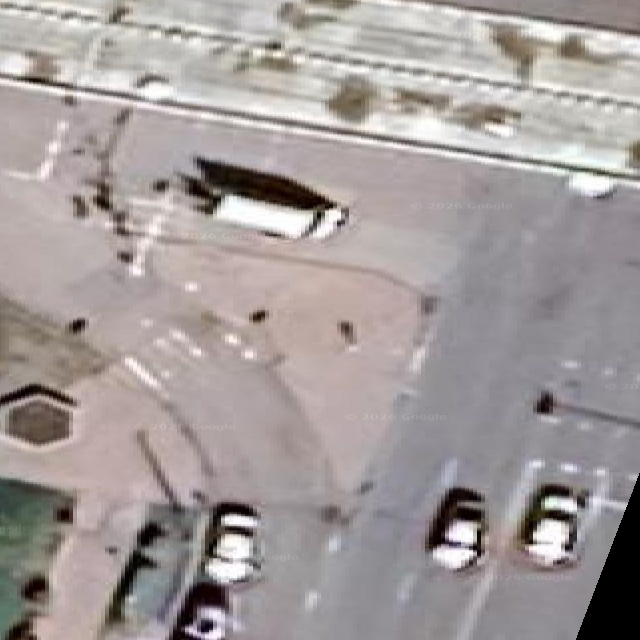car: (181, 157, 349, 239), (518, 484, 588, 567), (426, 487, 486, 570), (204, 502, 262, 584), (171, 582, 230, 639), (567, 172, 615, 198)
